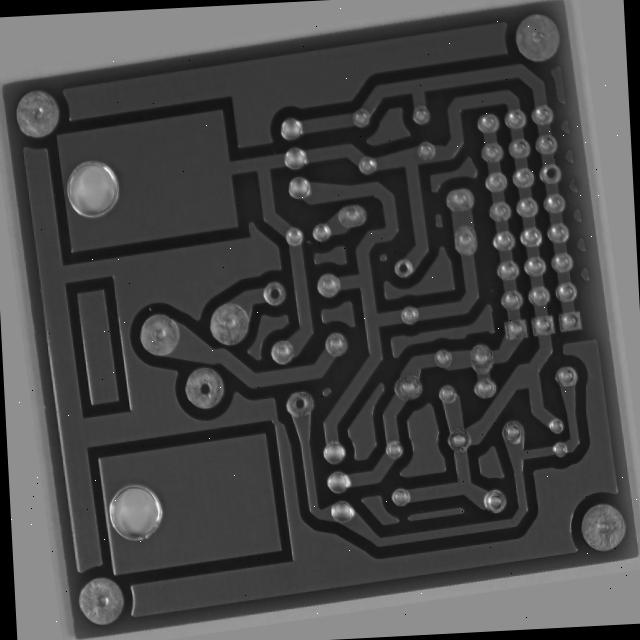missing_hole: (170, 363, 208, 400), (274, 393, 305, 423), (256, 273, 285, 299), (568, 172, 590, 198), (401, 262, 424, 283)
